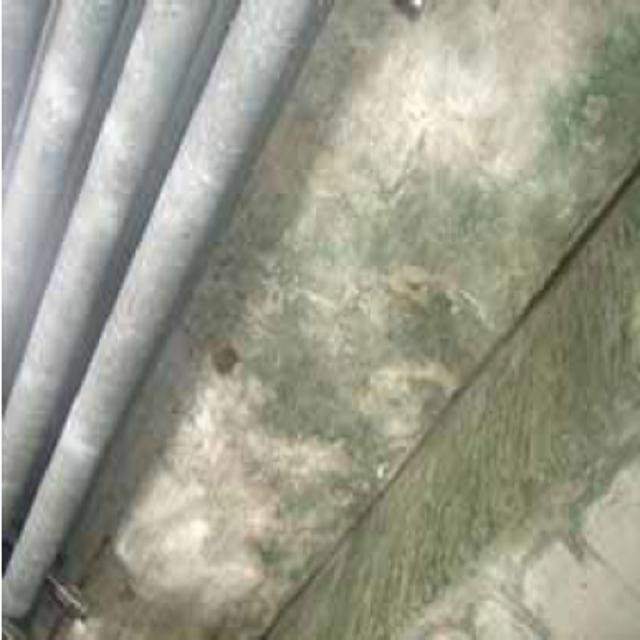leakage: (297, 160, 627, 620)
